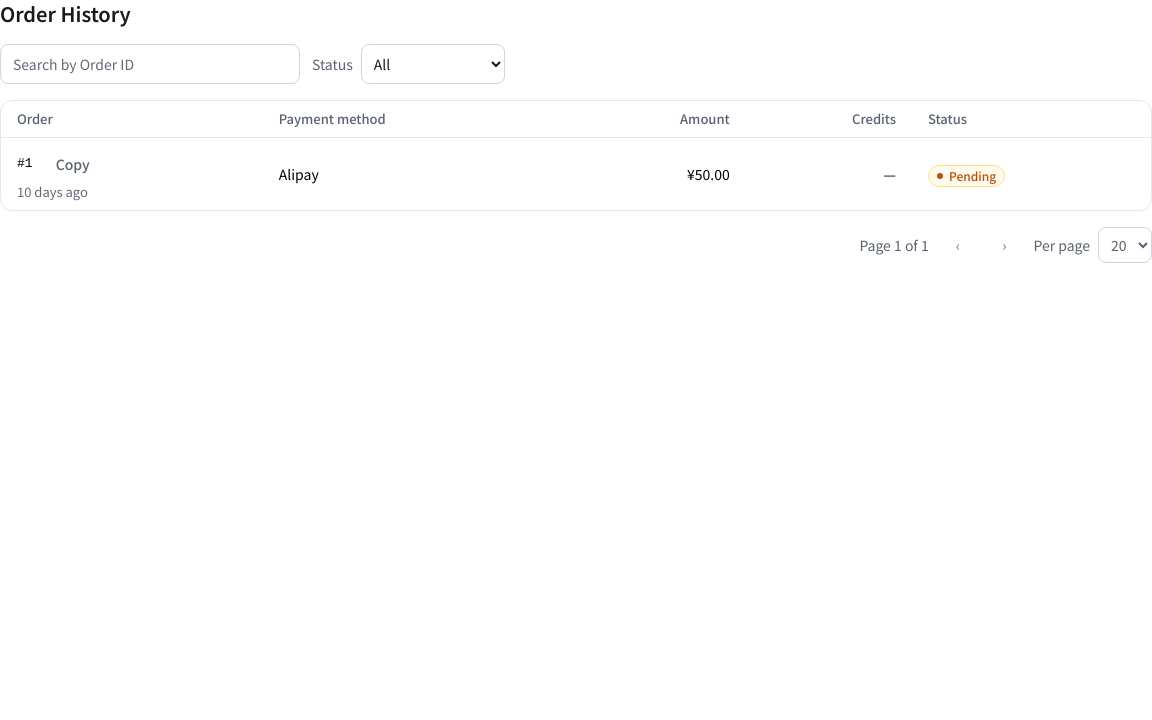
Test case: OrderListPage › opens the detail sheet from a row
Click the text "#1" at (25, 164), box [17,154,33,174]
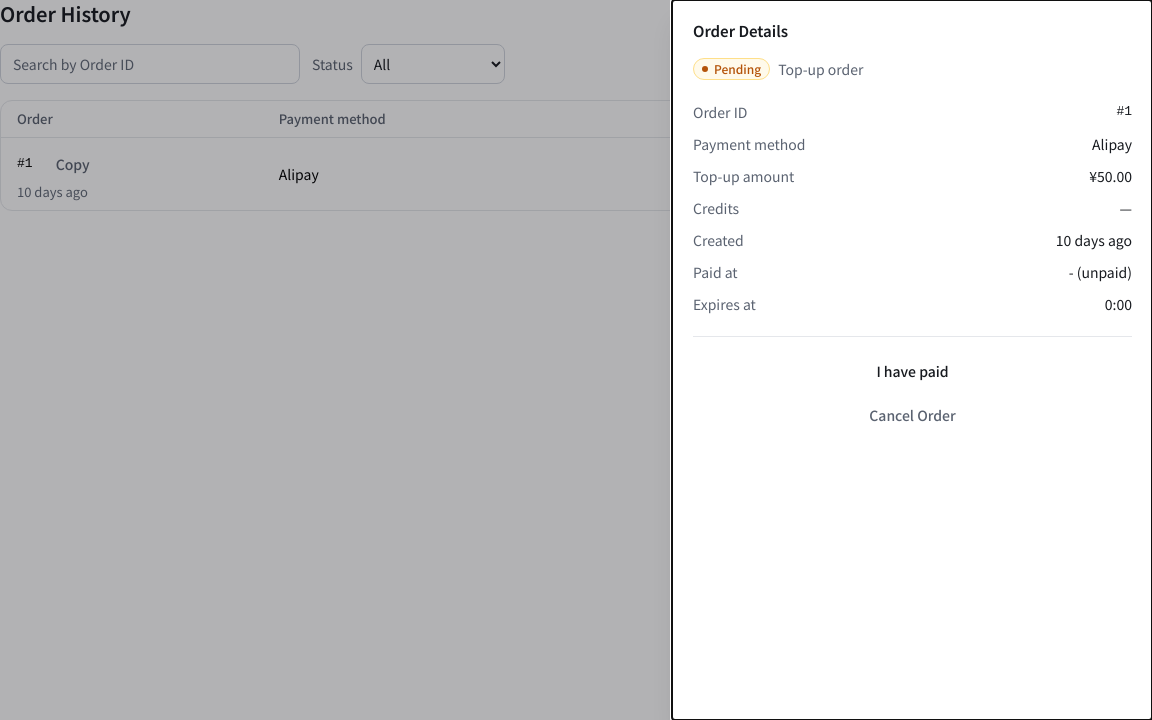
Expected: the heading "Order Details" is shown, [693,20,788,41]
Expected: the button "I have paid" is shown, [693,353,1132,389]
